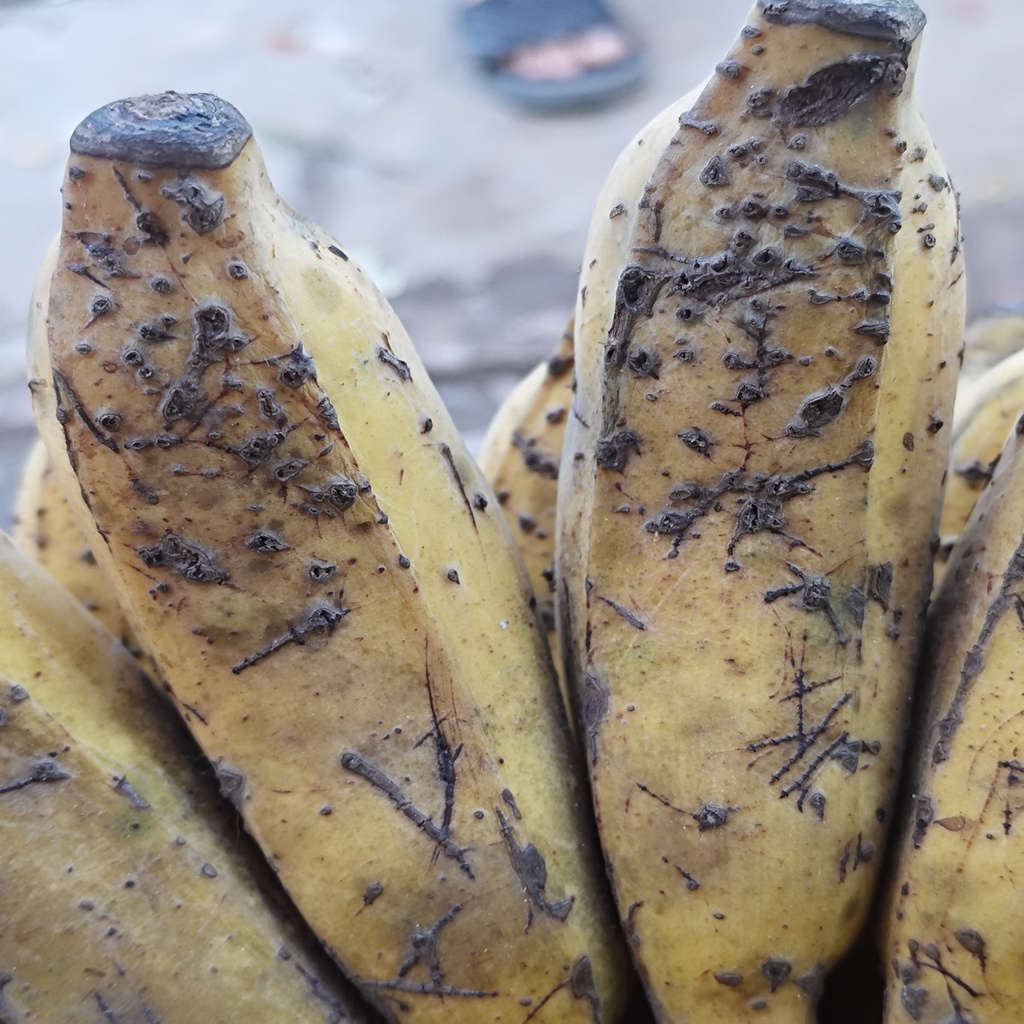unhealthy: (36, 98, 619, 1019), (557, 5, 968, 1013)
